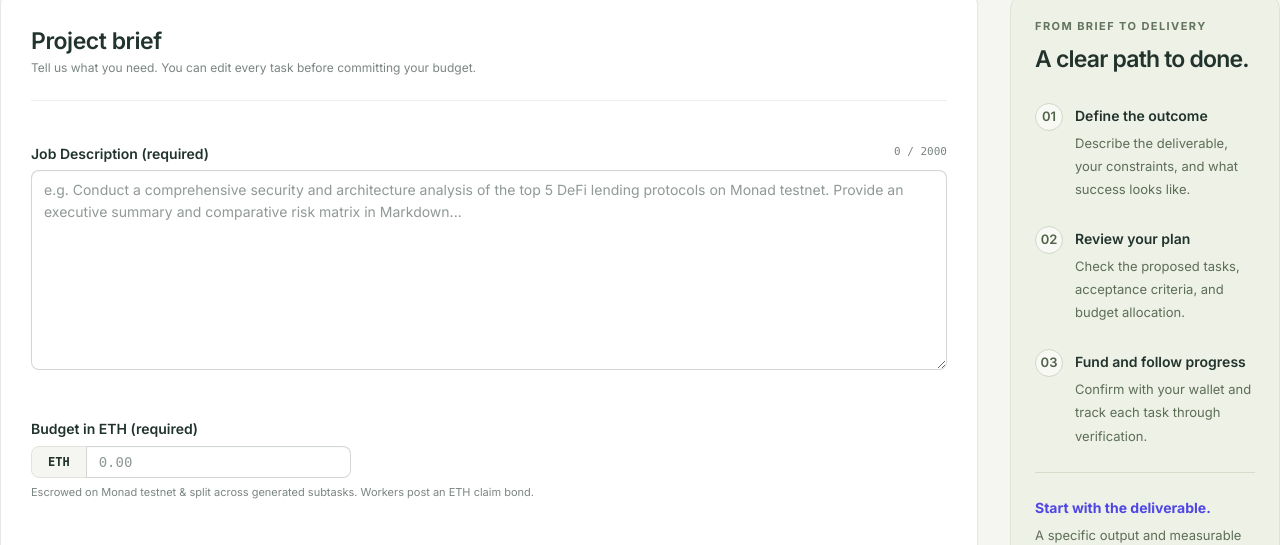
Scenario: CustomerDashboard create-task validation › says what is missing while the form is incomplete
The width and height of the screenshot is (1280, 545).
Replace the text in the text box with id "task-description" with "Research the top 5 lending protocols on Ethereum and compare fees." at (489, 270), box x1=31 y1=170 x2=947 y2=370
(page scrolled)
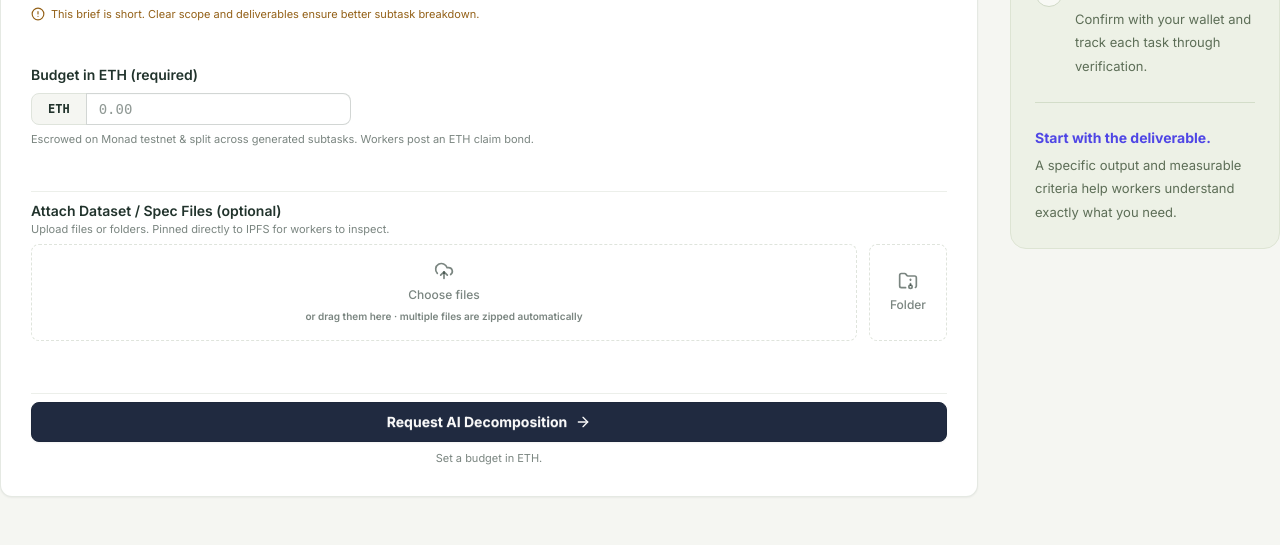
Expected: the text "Set a budget in ETH." is shown, x1=436 y1=451 x2=542 y2=465
